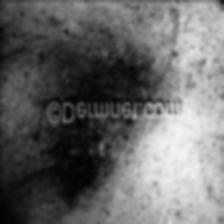Non-Cancerous Skin Condition: (33, 60, 153, 200), (126, 119, 129, 124)
